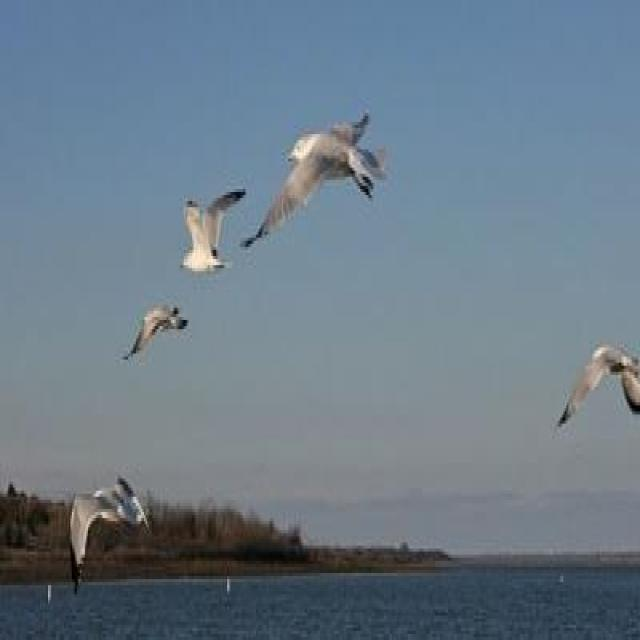birds: (240, 105, 392, 262), (62, 463, 159, 602), (180, 183, 252, 287), (126, 293, 190, 368)
